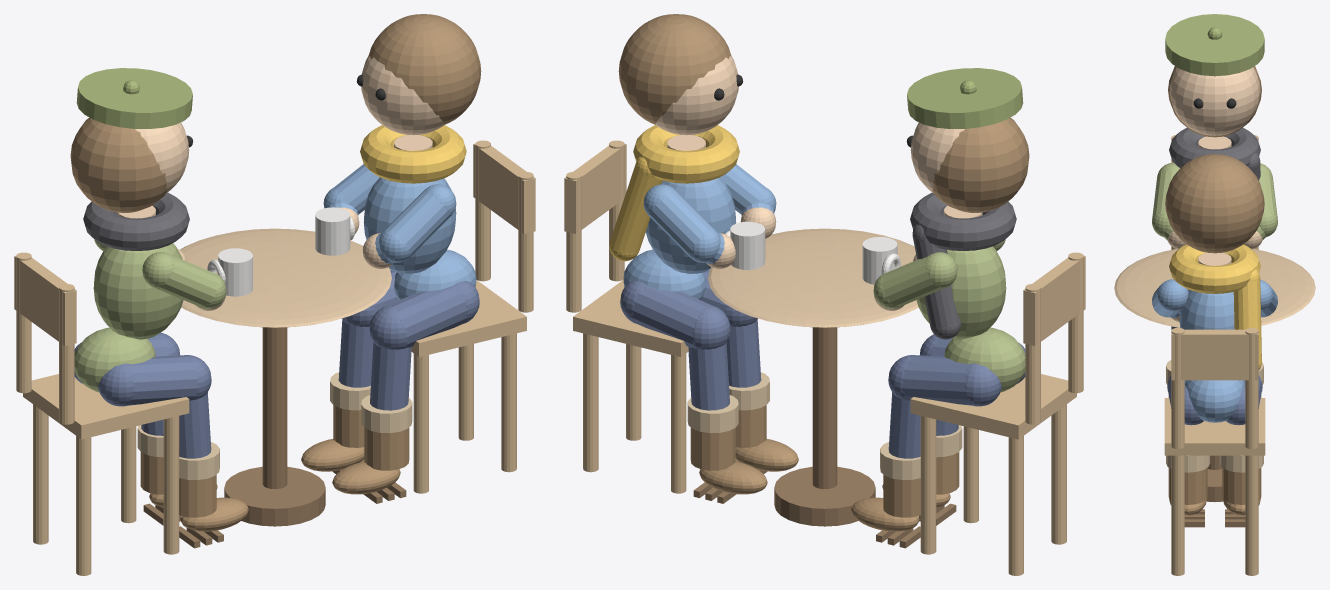
Rendered from 10-cafe-patrons.glb.
3 views of the same model, side by side, from view 1: azimuth 30°, elevation 25°; view 2: azimuth 150°, elevation 25°; view 3: azimuth 270°, elevation 25° (orthographic). The views are drawn at different scales.
Visible parts, largest first — view 1: Sphere, Sphere.055, Sphere.056, Cylinder.043, Sphere.029, Cube.002, Cylinder.001, Torus, Cylinder, Torus.001, Sphere.002, Sphere.005 (+41 smaller); view 2: Sphere, Sphere.055, Sphere.056, Cylinder.043, Cube.002, Cylinder.001, Sphere.029, Torus, Cylinder, Torus.001, Sphere.002, Sphere.005 (+43 smaller); view 3: Sphere.055, Sphere, Cylinder.043, Sphere.032, Cube.001, Cube, Torus, Sphere.001, Torus.001, Sphere.002, Cylinder.005, Cylinder.006 (+19 smaller).
Boxes of the visible parts, left/top/right/bottom form: Sphere: left=180, top=228, right=391, bottom=327; Sphere.055: left=368, top=14, right=481, bottom=124; Sphere.056: left=70, top=117, right=167, bottom=212; Cylinder.043: left=76, top=68, right=192, bottom=128; Sphere.029: left=93, top=243, right=183, bottom=339; Cube.002: left=23, top=374, right=189, bottom=439; Cylinder.001: left=224, top=466, right=325, bottom=526; Torus: left=360, top=125, right=466, bottom=183; Cylinder: left=262, top=327, right=287, bottom=488; Torus.001: left=83, top=192, right=189, bottom=250; Sphere.002: left=363, top=177, right=456, bottom=273; Sphere.005: left=361, top=55, right=444, bottom=135; Sphere: left=708, top=228, right=918, bottom=327; Sphere.055: left=618, top=14, right=731, bottom=124; Sphere.056: left=932, top=117, right=1029, bottom=212; Cylinder.043: left=907, top=68, right=1023, bottom=128; Cube.002: left=910, top=374, right=1076, bottom=439; Cylinder.001: left=774, top=466, right=875, bottom=526; Sphere.029: left=916, top=246, right=1006, bottom=339; Torus: left=633, top=125, right=739, bottom=183; Cylinder: left=812, top=327, right=837, bottom=488; Torus.001: left=910, top=192, right=1016, bottom=250; Sphere.002: left=645, top=177, right=736, bottom=273; Sphere.005: left=655, top=55, right=738, bottom=135; Sphere.055: left=1165, top=154, right=1264, bottom=253; Sphere: left=1114, top=249, right=1315, bottom=327; Cylinder.043: left=1165, top=14, right=1264, bottom=76; Sphere.032: left=1169, top=67, right=1260, bottom=135; Cube.001: left=1171, top=329, right=1258, bottom=380; Cube: left=1164, top=398, right=1265, bottom=455; Torus: left=1169, top=244, right=1260, bottom=293; Sphere.001: left=1185, top=380, right=1244, bottom=422; Torus.001: left=1169, top=128, right=1260, bottom=168; Sphere.002: left=1179, top=289, right=1234, bottom=329; Cylinder.005: left=1171, top=455, right=1184, bottom=575; Cylinder.006: left=1245, top=455, right=1258, bottom=575.
Size of the model in its own units: 1.4 by 1.3 by 0.6.
